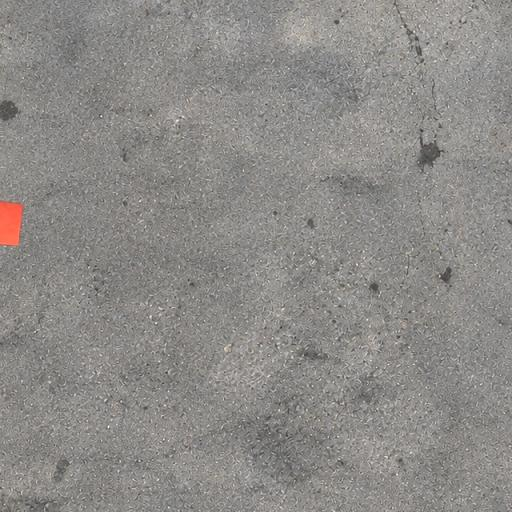RED_SQUARE: (0, 198, 24, 246)
